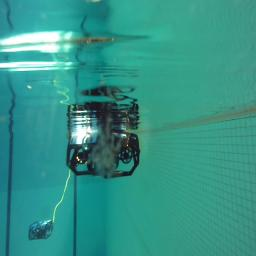Side: (66, 132, 140, 178)
front: (28, 221, 53, 240)
